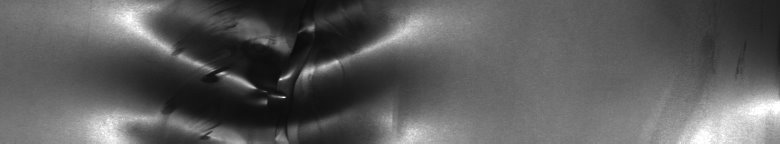ke: (124, 12, 400, 136)
